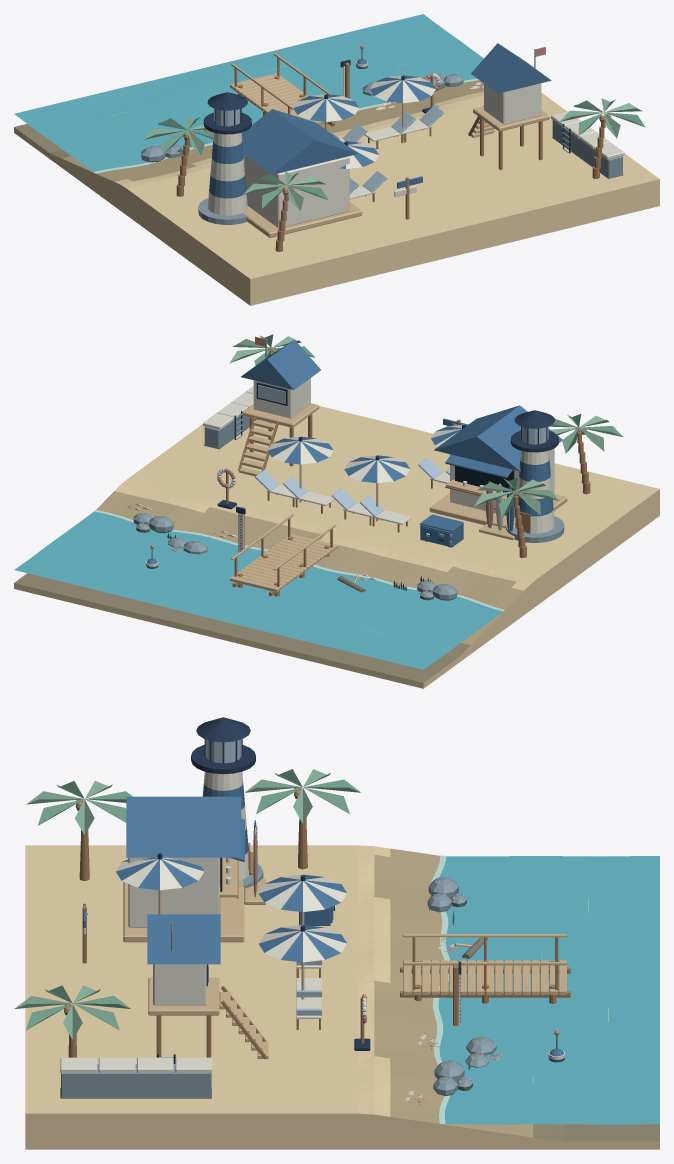
The model's file is beach_scene.glb.
3 views of the same model, one above another, from view 1: azimuth 30°, elevation 25°; view 2: azimuth 150°, elevation 25°; view 3: azimuth 270°, elevation 25° (orthographic). The views are drawn at different scales.
Visible parts, largest first — view 1: tidal_sand_sand, tidal_water_surface, tidal_terrain_skirt, beach_kiosk_gable_roof, beach_kiosk_body, tidal_sand_wet_sand, lighthouse_tower_band (×4), lifeguard_tower_gable_roof, lifeguard_tower_cabin, beach_kiosk_deck, seawall_wall, lifeguard_tower_raised_deck (+4 smaller); view 2: tidal_sand_sand, tidal_water_surface, tidal_sand_wet_sand, tidal_terrain_skirt, tidal_sand_seabed, beach_kiosk_gable_roof, lifeguard_tower_gable_roof, lifeguard_tower_cabin, beach_kiosk_deck, beach_kiosk_body, seawall_wall, shore_foam (+7 smaller); view 3: tidal_sand_sand, tidal_water_surface, tidal_terrain_skirt, tidal_sand_wet_sand, beach_kiosk_gable_roof, seawall_wall, lifeguard_tower_gable_roof, beach_kiosk_body, seawall_capstone (×4), lifeguard_tower_cabin, tidal_sand_seabed, beach_kiosk_deck (+7 smaller).
Part boxes in pixels (x1,y1,x2,y2): tidal_sand_sand: (115, 91, 659, 278); tidal_water_surface: (14, 14, 483, 172); tidal_terrain_skirt: (14, 127, 659, 305); beach_kiosk_gable_roof: (241, 109, 358, 174); beach_kiosk_body: (245, 156, 349, 228); tidal_sand_wet_sand: (61, 80, 483, 181); lighthouse_tower_band (×4): (207, 140, 247, 215); lifeguard_tower_gable_roof: (471, 43, 551, 93); lifeguard_tower_cabin: (484, 83, 541, 124); beach_kiosk_deck: (243, 202, 362, 237); seawall_wall: (552, 120, 622, 177); lifeguard_tower_raised_deck: (473, 106, 549, 131); tidal_sand_sand: (115, 406, 659, 590); tidal_water_surface: (14, 511, 503, 669); tidal_sand_wet_sand: (96, 491, 523, 644); tidal_terrain_skirt: (14, 489, 659, 688); tidal_sand_seabed: (14, 573, 470, 682); beach_kiosk_gable_roof: (434, 405, 562, 471); lifeguard_tower_gable_roof: (241, 339, 320, 389); lifeguard_tower_cabin: (253, 378, 310, 418); beach_kiosk_deck: (429, 493, 567, 527); beach_kiosk_body: (450, 448, 554, 518); seawall_wall: (204, 415, 257, 448); shore_foam: (94, 510, 504, 611); tidal_sand_sand: (25, 845, 390, 1116); tidal_water_surface: (438, 856, 659, 1124); tidal_terrain_skirt: (25, 1113, 659, 1149); tidal_sand_wet_sand: (374, 848, 532, 1137); beach_kiosk_gable_roof: (126, 796, 241, 857); seawall_wall: (61, 1064, 211, 1097); lifeguard_tower_gable_roof: (147, 914, 220, 964); beach_kiosk_body: (128, 857, 219, 927); seawall_capstone (×4): (60, 1057, 212, 1073); lifeguard_tower_cabin: (153, 964, 206, 1005); tidal_sand_seabed: (533, 1124, 659, 1141); beach_kiosk_deck: (123, 880, 244, 942).
Bounding box in the file's own units: 16.02 × 5.54 × 16.28.
